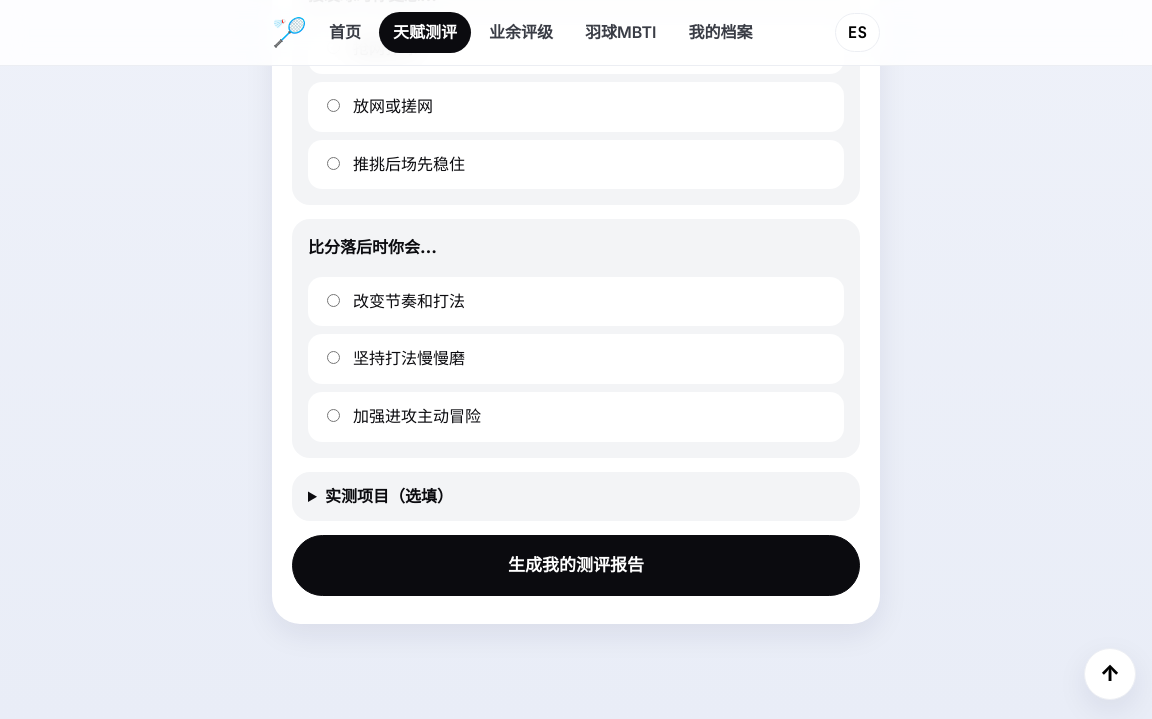
Test case: detalles menores de interfaz › los errores del formulario cambian de idioma con el botón 中/ES
(page scrolled)
Click the button "生成我的测评报告" at (576, 566), box [292,535,860,596]
(page scrolled)
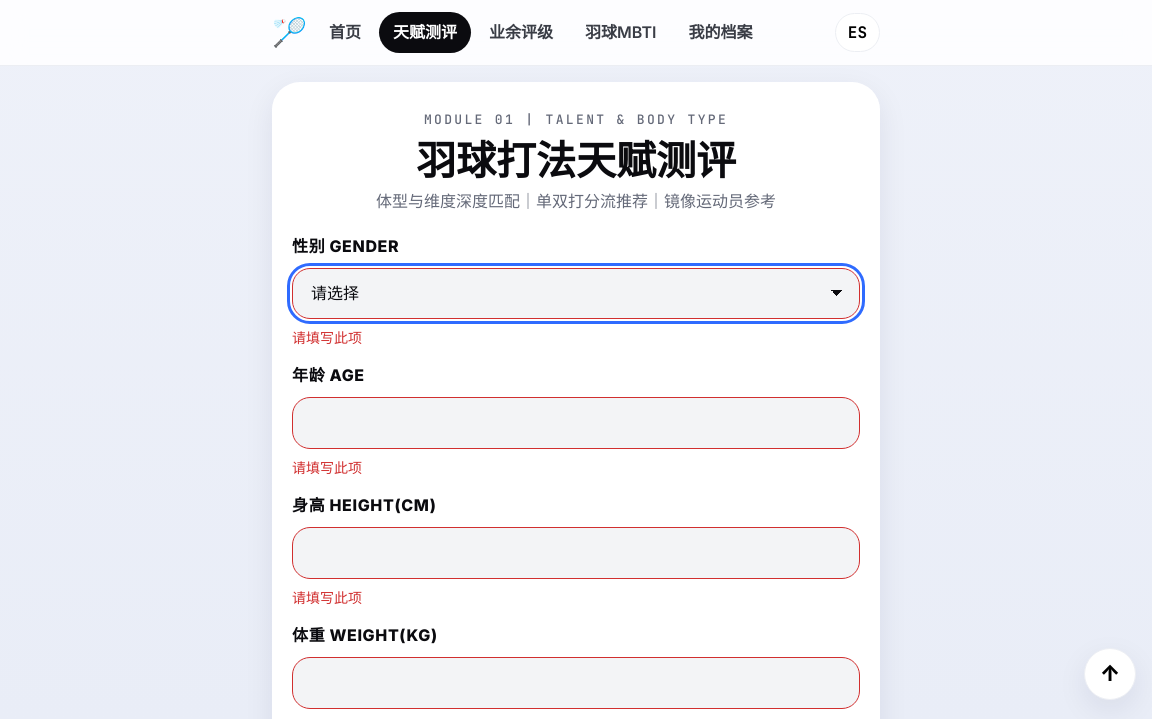
Click the button with aria-label "切换到西班牙语" at (857, 32), box [835,13,880,52]
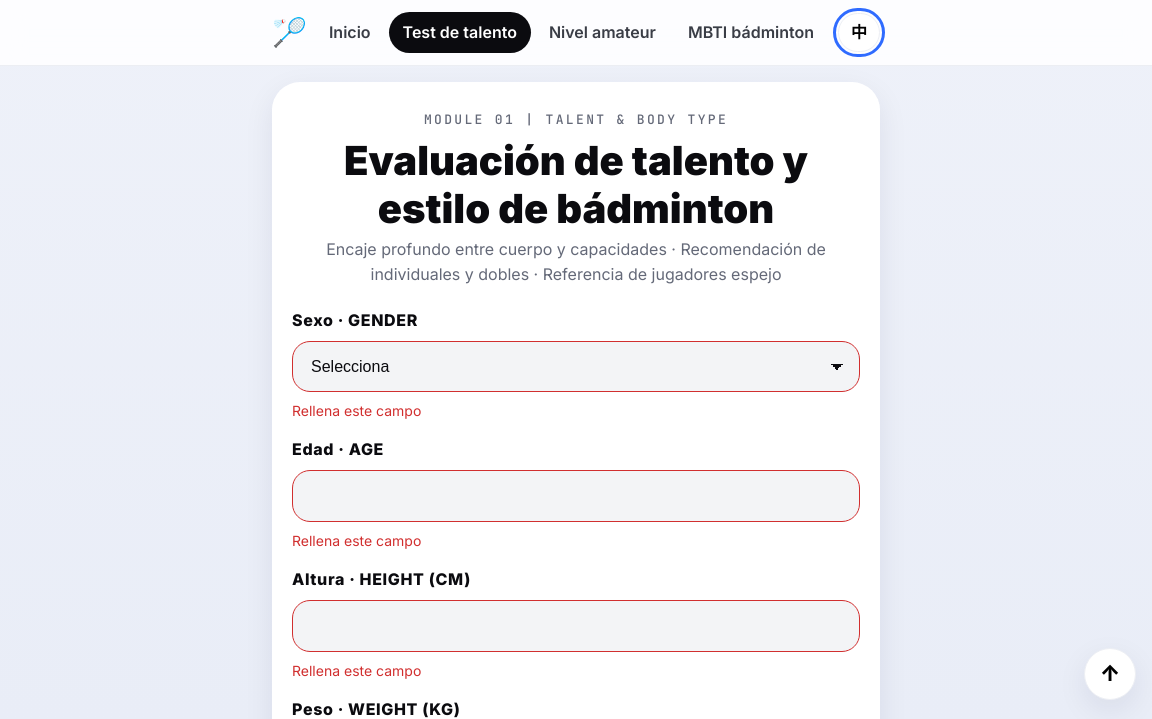
Expected: the text "Rellena este campo" below "Sexo · GENDER" is shown, [292,402,421,419]
Expected: the text "请填写此项" is gone
